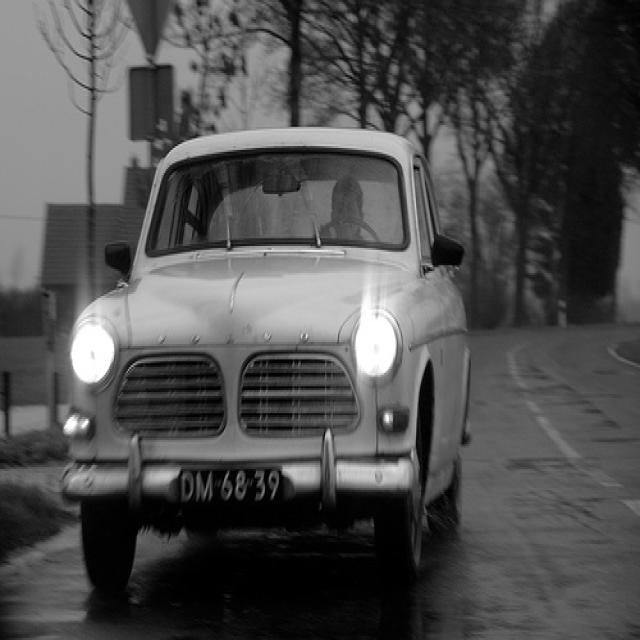light_vehicle: (60, 127, 472, 588)
